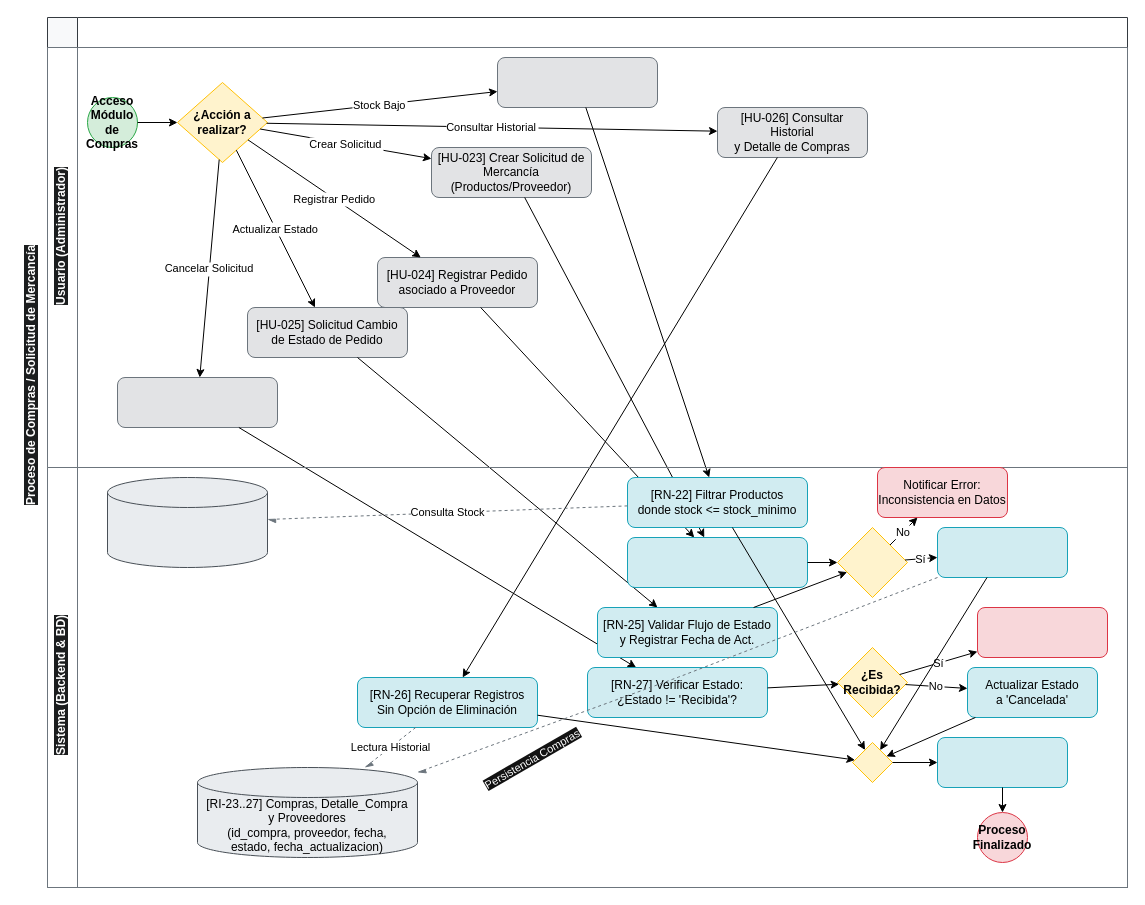
This 1145x905 diagram has some shape labels left out. Here are the shapes that lost their labels. From the top down, the centre of each, then its label:
At pixel 577 82: "[HU-022] Consultar Productos con Stock Bajo".
At pixel 197 402: "[HU-027] Cancelar Solicitud de Mercancía".
At pixel 187 522: "[RI-22] Productos (stock, stock_minimo)".
At pixel 717 562: "[RN-23 / RN-24] Validar Proveedor, Fecha, Productos y Cantidades".
At pixel 872 562: "¿Es Válido?".
At pixel 1002 552: "Guardar / Actualizar en Compras y Detalle".
At pixel 1042 632: "Notificar Error: Solicitud Recibida".
At pixel 1002 762: "Mostrar Confirmación / Vista de Resultados".
